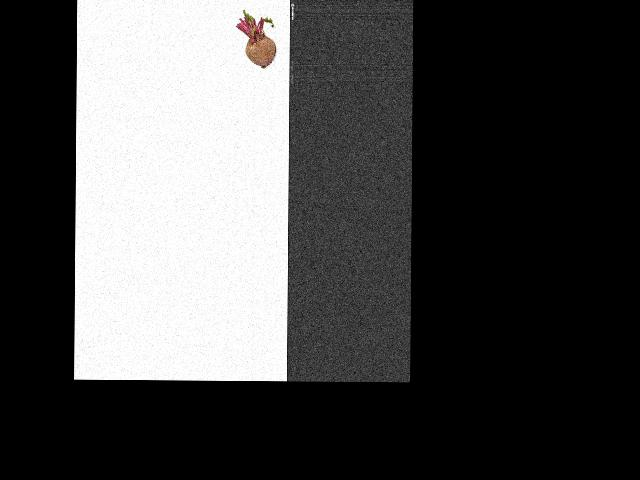beet: (235, 9, 276, 69)
